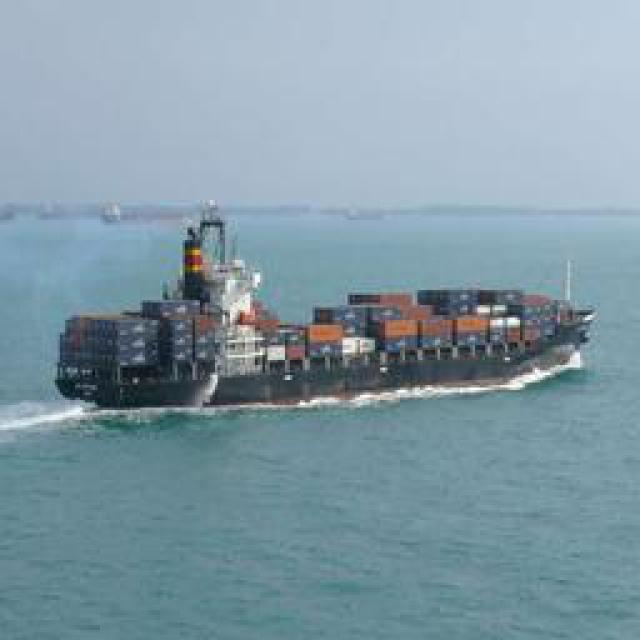Ship: (48, 211, 603, 411)
